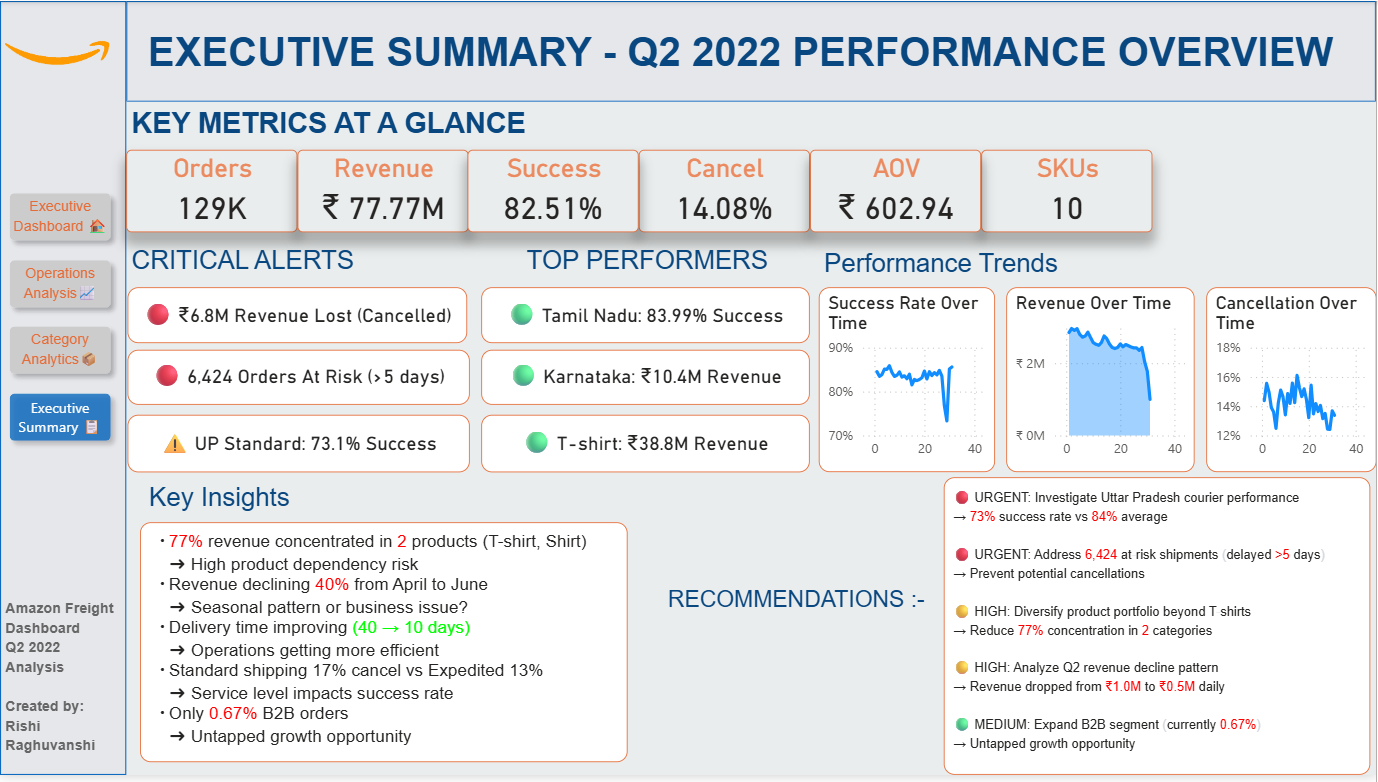

What the dashboard file says about the page in this screenshot:
{"tool":"powerbi","page":{"name":"Executive Summary 📋","canvas":[1280,720],"ordinal":3},"visuals":[{"type":"shape","box":[0,0,117.5,720],"z":0},{"type":"pageNavigator","box":[0,169.8,112.8,250],"z":1},{"type":"image","box":[1.2,0,116.3,94.2],"z":2},{"type":"shape","box":[117.5,0,1162.5,93.8],"z":3},{"type":"textbox","box":[132.6,20.9,1131.4,53.5],"z":4},{"type":"textbox","box":[117.4,94.2,377.9,44.2],"z":5},{"type":"card","title":"Orders","fields":{"Values":["amazon_enriched.Total Orders"]},"box":[117.4,138.4,159.3,76.7],"z":6},{"type":"card","title":"Revenue","fields":{"Values":["amazon_enriched.Total Revenue"]},"box":[276.7,138.4,159.3,76.7],"z":7},{"type":"card","title":"SKUs","fields":{"Values":["amazon_enriched.Total Categories"]},"box":[912.8,138.4,159.3,76.7],"z":8},{"type":"card","title":"Cancel","fields":{"Values":["amazon_enriched.Cancellation Rate"]},"box":[594.2,138.4,159.3,76.7],"z":9},{"type":"card","title":"AOV","fields":{"Values":["amazon_enriched.AOV"]},"box":[753.5,138.4,159.3,76.7],"z":10},{"type":"card","title":"Success","fields":{"Values":["amazon_enriched.Success Rate"]},"box":[434.9,138.4,159.3,76.7],"z":11},{"type":"textbox","box":[117.4,223.3,223.3,43],"z":12},{"type":"card","fields":{"Values":["amazon_enriched.Alert Revenue Loss"]},"box":[118.6,266.3,316.3,52.3],"z":13},{"type":"card","fields":{"Values":["amazon_enriched.Alert At Risk Orders"]},"box":[118.6,324.4,318.6,51.2],"z":14},{"type":"card","fields":{"Values":["amazon_enriched.Alert UP Standard"]},"box":[118.6,384.9,318.6,53.5],"z":15},{"type":"textbox","box":[484.9,223.3,241.9,43],"z":16},{"type":"card","fields":{"Values":["amazon_enriched.Top Tamil Nadu"]},"box":[447.7,266.3,305.8,52.3],"z":17},{"type":"card","fields":{"Values":["amazon_enriched.Top Karnataka Revenue"]},"box":[447.7,324.4,305.8,51.2],"z":18},{"type":"card","fields":{"Values":["amazon_enriched.Top T-shirt Revenue"]},"box":[447.7,384.9,305.8,53.5],"z":19},{"type":"textbox","box":[761.6,225.6,231.4,40.7],"z":20},{"type":"lineChart","title":"Success Rate Over Time","fields":{"Category":["amazon_enriched.Date.Variation.Date Hierarchy.Day"],"Y":["amazon_enriched.Success Rate"]},"box":[761.6,266.3,164,172.1],"z":21},{"type":"areaChart","title":"Revenue Over Time","fields":{"Category":["amazon_enriched.Date.Variation.Date Hierarchy.Day"],"Y":["amazon_enriched.Total Revenue"]},"box":[936,266.3,175.6,172.1],"z":22},{"type":"lineChart","title":"Cancellation Over Time","fields":{"Category":["amazon_enriched.Date.Variation.Date Hierarchy.Day"],"Y":["amazon_enriched.Cancellation Rate"]},"box":[1122.1,266.3,158.1,172.1],"z":23},{"type":"textbox","box":[130.2,484.9,453.5,223.3],"z":24},{"type":"textbox","box":[133.7,443,144.2,41.9],"z":25},{"type":"textbox","box":[616.3,539.5,275.6,41.9],"z":26},{"type":"textbox","box":[877.9,443,396.5,276.7],"z":27},{"type":"textbox","box":[0,550,117.4,169.8],"z":28}]}

Visuals, with their boxes on the page's 1280x720 design canvas (x1, y1, x2, y2). These are canvas units, not pixel positions in the 1378x782 screenshot, which may show the page scaled, cropped or inside an application window:
shape: 0 0 118 720
pageNavigator: 0 170 113 420
image: 1 0 118 94
shape: 118 0 1280 94
textbox: 133 21 1264 74
textbox: 117 94 495 138
"Orders" card: 117 138 277 215
"Revenue" card: 277 138 436 215
"SKUs" card: 913 138 1072 215
"Cancel" card: 594 138 754 215
"AOV" card: 754 138 913 215
"Success" card: 435 138 594 215
textbox: 117 223 341 266
card - amazon_enriched.Alert Revenue Loss: 119 266 435 319
card - amazon_enriched.Alert At Risk Orders: 119 324 437 376
card - amazon_enriched.Alert UP Standard: 119 385 437 438
textbox: 485 223 727 266
card - amazon_enriched.Top Tamil Nadu: 448 266 754 319
card - amazon_enriched.Top Karnataka Revenue: 448 324 754 376
card - amazon_enriched.Top T-shirt Revenue: 448 385 754 438
textbox: 762 226 993 266
"Success Rate Over Time" lineChart: 762 266 926 438
"Revenue Over Time" areaChart: 936 266 1112 438
"Cancellation Over Time" lineChart: 1122 266 1280 438
textbox: 130 485 584 708
textbox: 134 443 278 485
textbox: 616 540 892 581
textbox: 878 443 1274 720
textbox: 0 550 117 720
